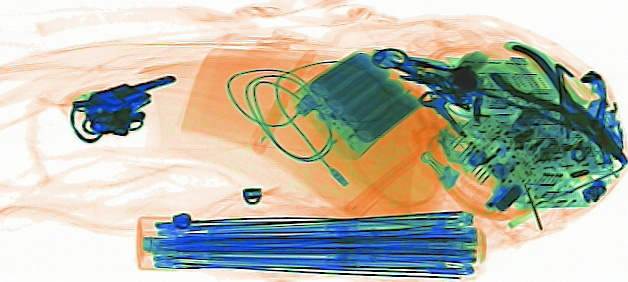powerbank: (285, 47, 426, 157)
